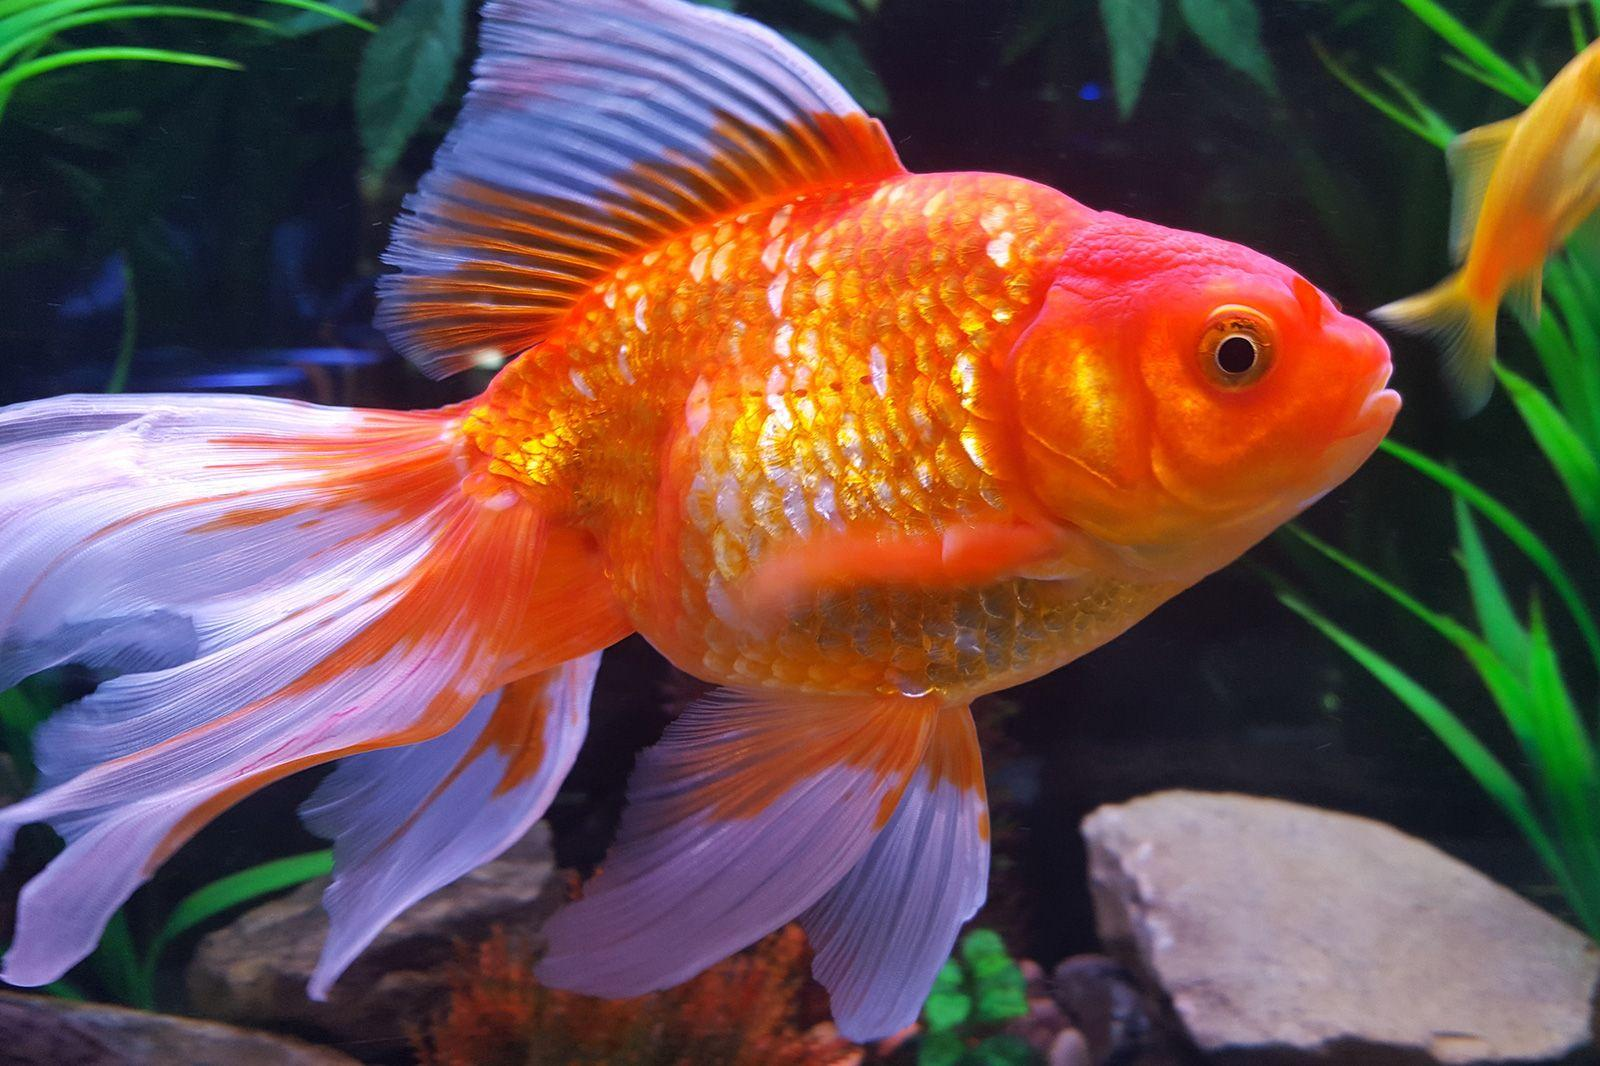Gold Fish: (0, 0, 1404, 1042)
